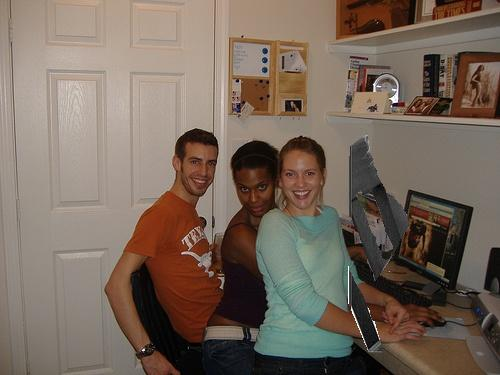tampered: (349, 134, 409, 353)
